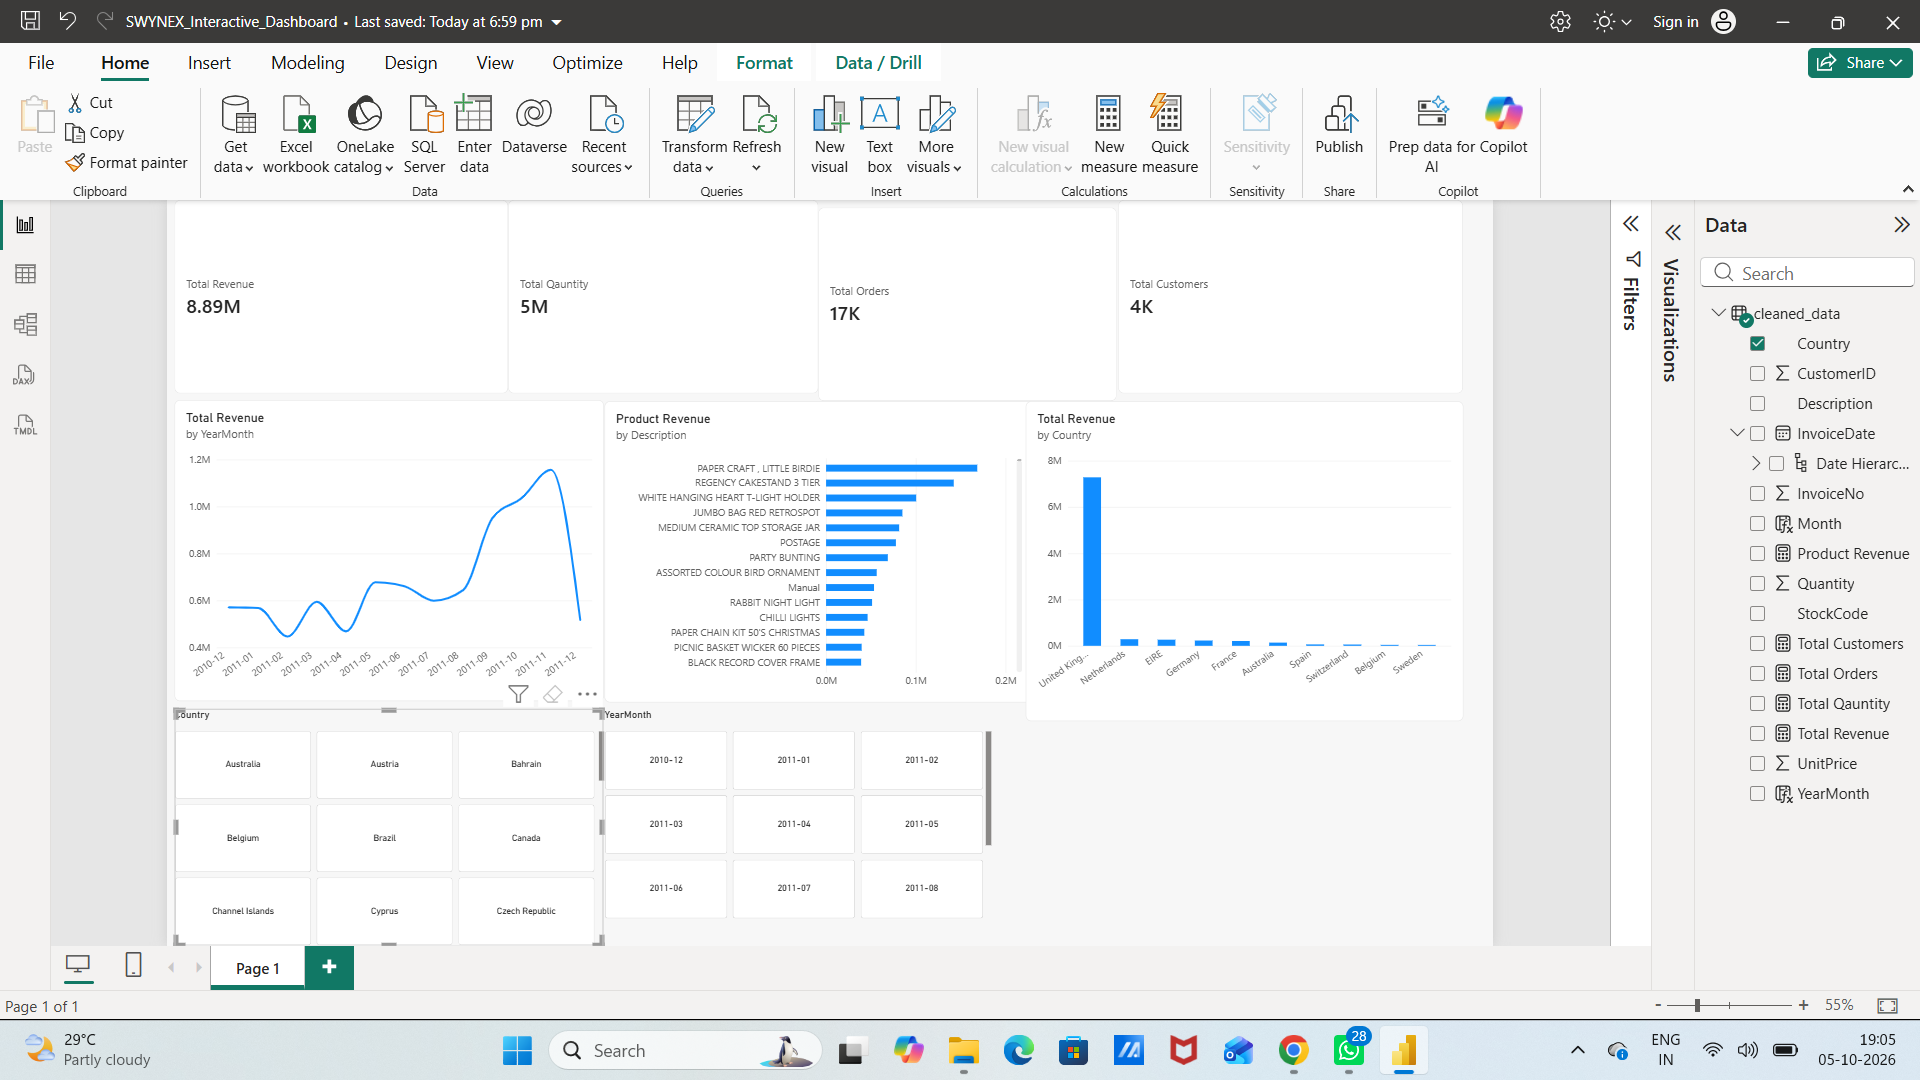

This screenshot's page, from the dashboard's own definition file:
{"tool":"powerbi","page":{"name":"Page 1","canvas":[1920,1080],"ordinal":0},"visuals":[{"type":"cardVisual","fields":{"Data":["cleaned_data.Total Revenue"]},"box":[10.9,0,483.6,280],"z":0},{"type":"cardVisual","fields":{"Data":["cleaned_data.Total Qauntity"]},"box":[494.5,0,449.1,280],"z":1},{"type":"cardVisual","fields":{"Data":["cleaned_data.Total Orders"]},"box":[943.6,10.9,432.7,280],"z":2},{"type":"cardVisual","fields":{"Data":["cleaned_data.Total Customers"]},"box":[1376.4,0,500,280],"z":3},{"type":"lineChart","fields":{"Category":["cleaned_data.YearMonth"],"Y":["cleaned_data.Total Revenue"]},"box":[10.3,290.2,621.6,436.4],"z":4},{"type":"clusteredBarChart","fields":{"Category":["cleaned_data.Description"],"Y":["cleaned_data.Product Revenue"]},"box":[632.7,290.9,621.8,436.4],"z":5},{"type":"clusteredColumnChart","fields":{"Category":["cleaned_data.Country"],"Y":["cleaned_data.Total Revenue"]},"box":[1243.2,291.4,633.4,463.3],"z":6},{"type":"advancedSlicerVisual","fields":{"Values":["cleaned_data.Country"]},"box":[10,736,622,344],"z":7},{"type":"advancedSlicerVisual","fields":{"Values":["cleaned_data.YearMonth"]},"box":[633.4,736.5,561,304],"z":8}]}

Visuals, with their boxes on the page's 1920x1080 design canvas (x1, y1, x2, y2). These are canvas units, not pixel positions in the 1920x1080 screenshot, which may show the page scaled, cropped or inside an application window:
cardVisual - cleaned_data.Total Revenue: box(11, 0, 494, 280)
cardVisual - cleaned_data.Total Qauntity: box(494, 0, 944, 280)
cardVisual - cleaned_data.Total Orders: box(944, 11, 1376, 291)
cardVisual - cleaned_data.Total Customers: box(1376, 0, 1876, 280)
lineChart - cleaned_data.YearMonth x cleaned_data.Total Revenue: box(10, 290, 632, 727)
clusteredBarChart - cleaned_data.Description x cleaned_data.Product Revenue: box(633, 291, 1254, 727)
clusteredColumnChart - cleaned_data.Country x cleaned_data.Total Revenue: box(1243, 291, 1877, 755)
advancedSlicerVisual - cleaned_data.Country: box(10, 736, 632, 1080)
advancedSlicerVisual - cleaned_data.YearMonth: box(633, 736, 1194, 1040)
